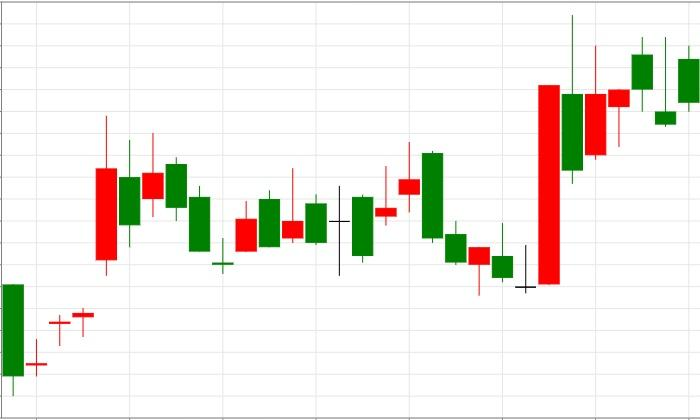morning_star_rise: (421, 85, 561, 296), (142, 134, 258, 273)
